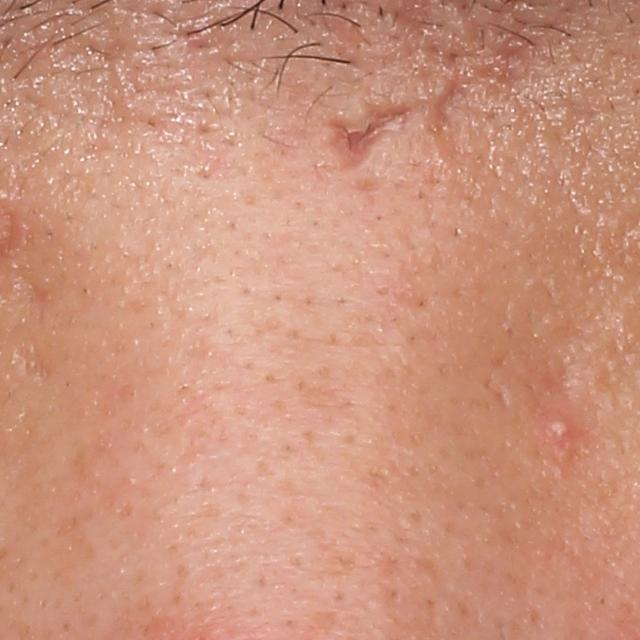atrophic_scar: (316, 98, 422, 162), (432, 69, 465, 131)
pustule: (544, 410, 572, 438)
